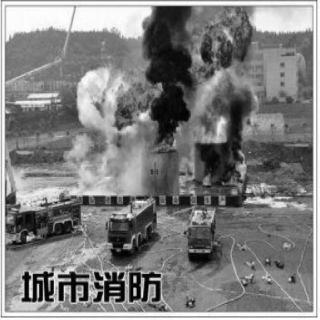Fire: (200, 167, 210, 185)
other: (184, 204, 228, 272)
